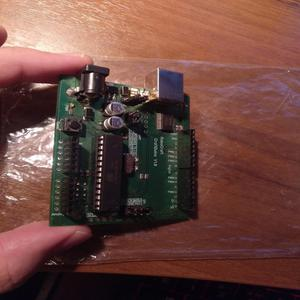duino: (52, 55, 199, 231)
